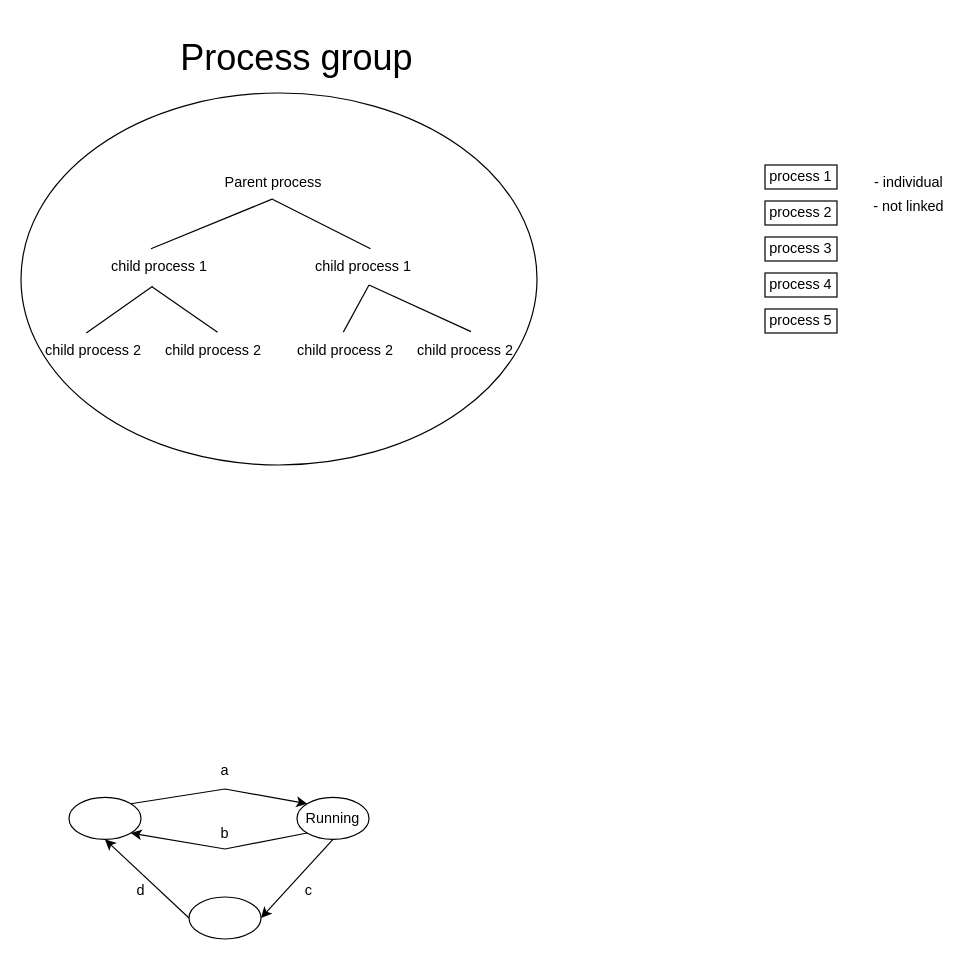
The diagram is 972 pixels wide and 960 high, and some of its shapes have lost their labels. The shapes that lost their labels are listed below. From the top down, each one's centre as x and y in pixels, then its label:
At pixel 104 817: "Ready".
At pixel 224 917: "Blocked".
